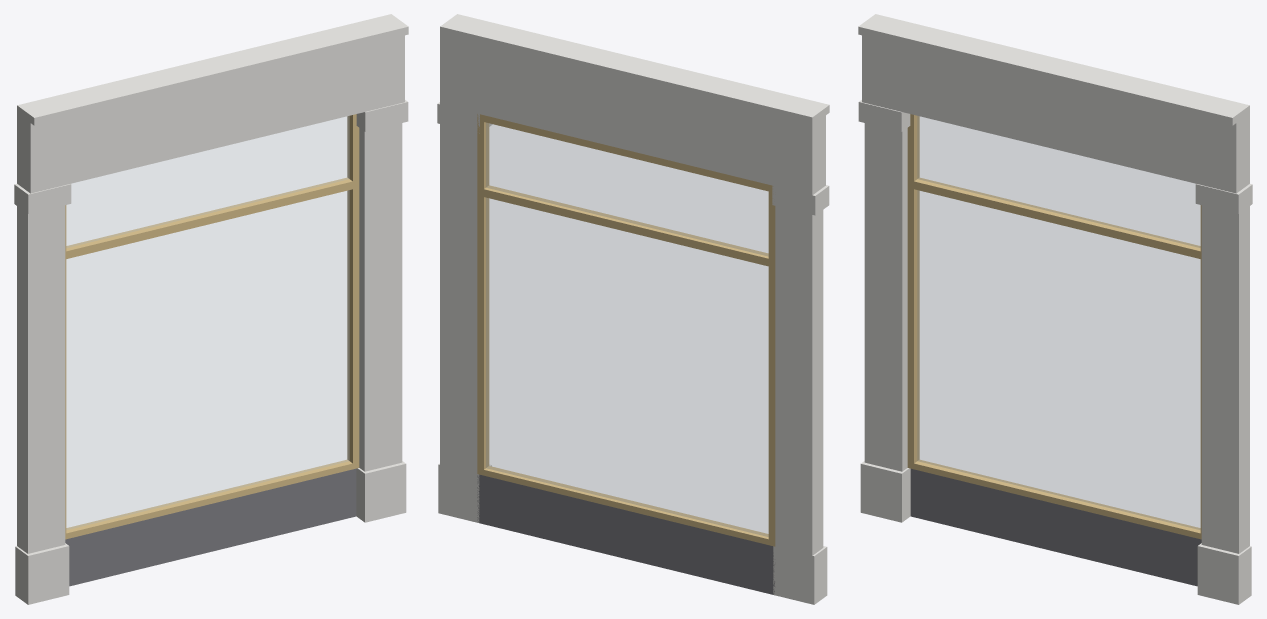
File: storefront_luxury_4.0x5.0_lod1.glb
3 renders of one model, left to right at view 1: azimuth 30°, elevation 25°; view 2: azimuth 150°, elevation 25°; view 3: azimuth 330°, elevation 25°, orthographic.
Parts seen in each view (by area): view 1: storefront_luxury; view 2: storefront_luxury; view 3: storefront_luxury.
Boxes of the visible parts, box(x1,y1,x2,y2) form: storefront_luxury: box(14, 14, 408, 604); storefront_luxury: box(437, 14, 829, 604); storefront_luxury: box(858, 14, 1252, 604).
Bounding box in the file's own units: 4.06 × 5 × 0.32.
